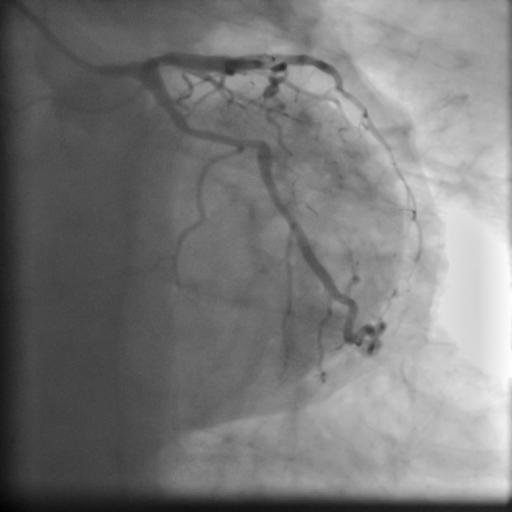Stenosis: (240, 131, 264, 158)
